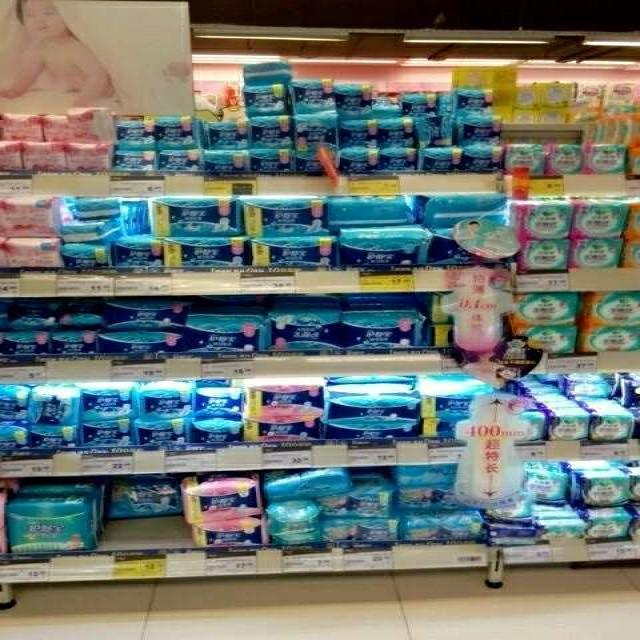unorganised: (110, 473, 183, 519), (266, 468, 354, 501), (524, 466, 573, 506), (577, 472, 631, 507)
